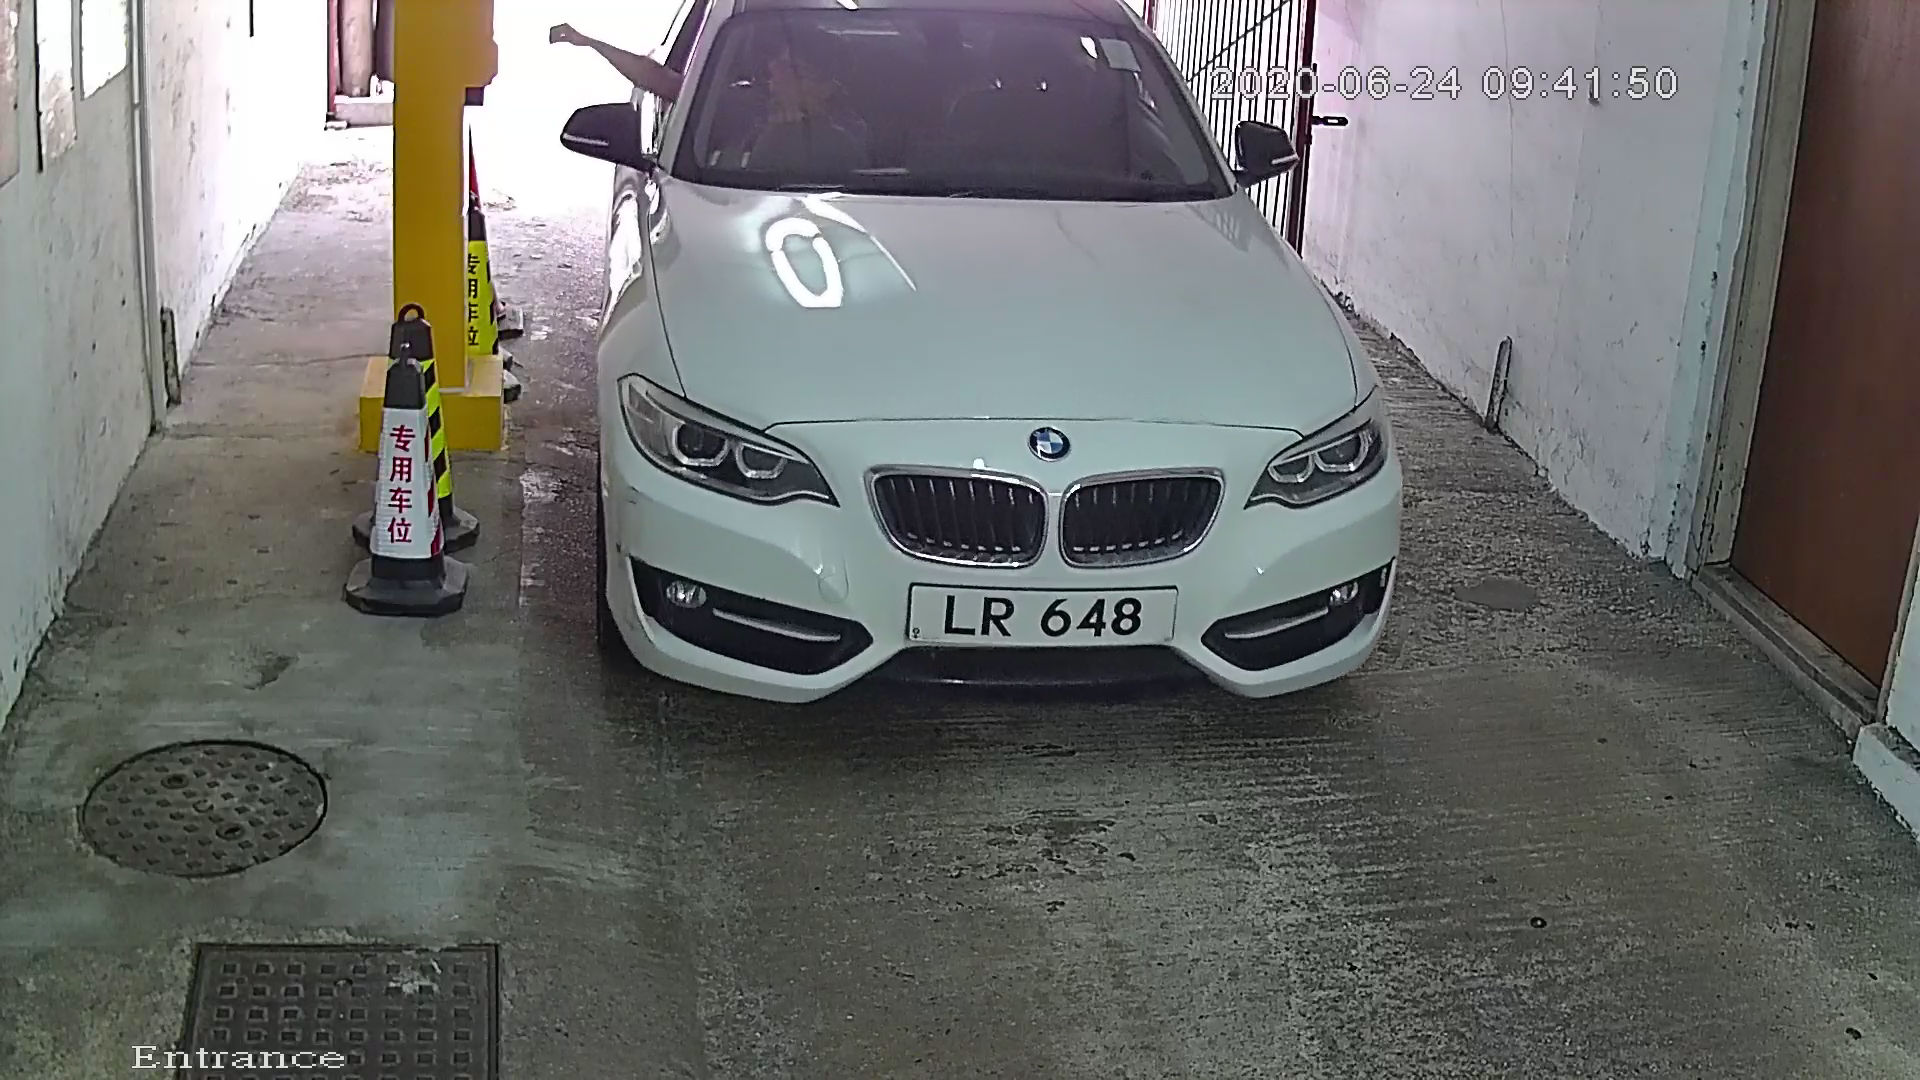Car: (554, 1, 1418, 780)
License Plate: (895, 574, 1196, 666)
